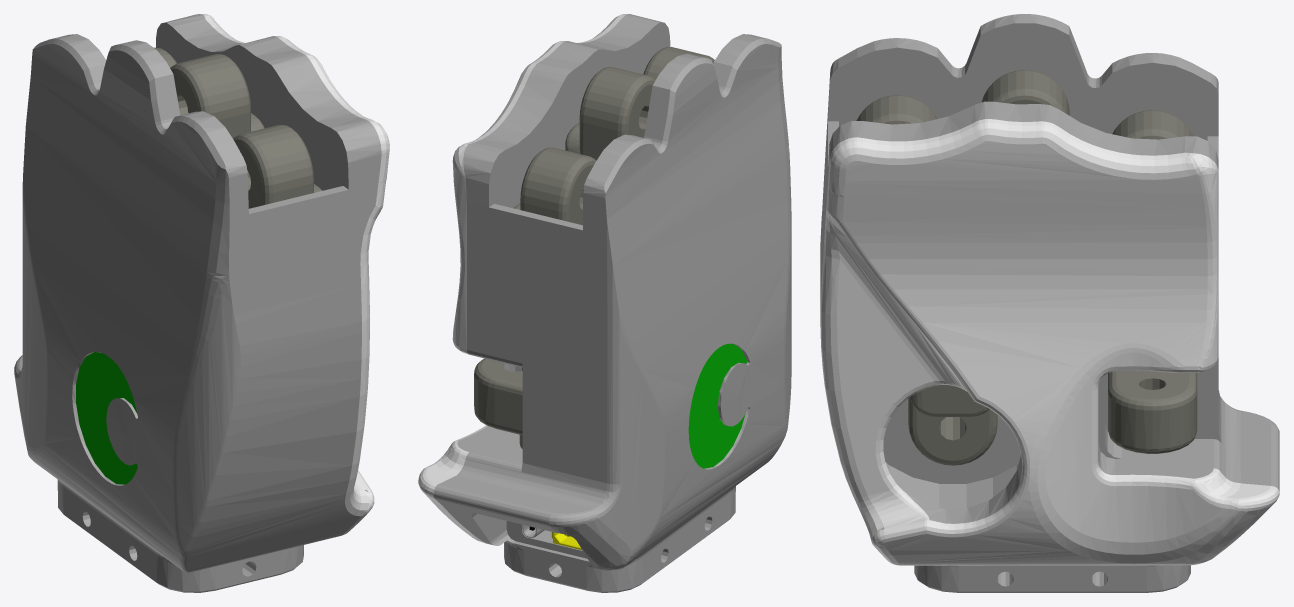
3 views of the same model, side by side, from view 1: azimuth 30°, elevation 25°; view 2: azimuth 150°, elevation 25°; view 3: azimuth 270°, elevation 25° (orthographic). The views are drawn at different scales.
Visible parts, largest first — view 1: link_base; view 2: link_base; view 3: link_base.
Boxes of the visible parts, box(x1,y1,x2,y2) form: link_base: box(14, 14, 389, 592); link_base: box(418, 14, 791, 592); link_base: box(820, 14, 1279, 592).
Bounding box in the file's own units: 0.0448 × 0.083 × 0.1026.
